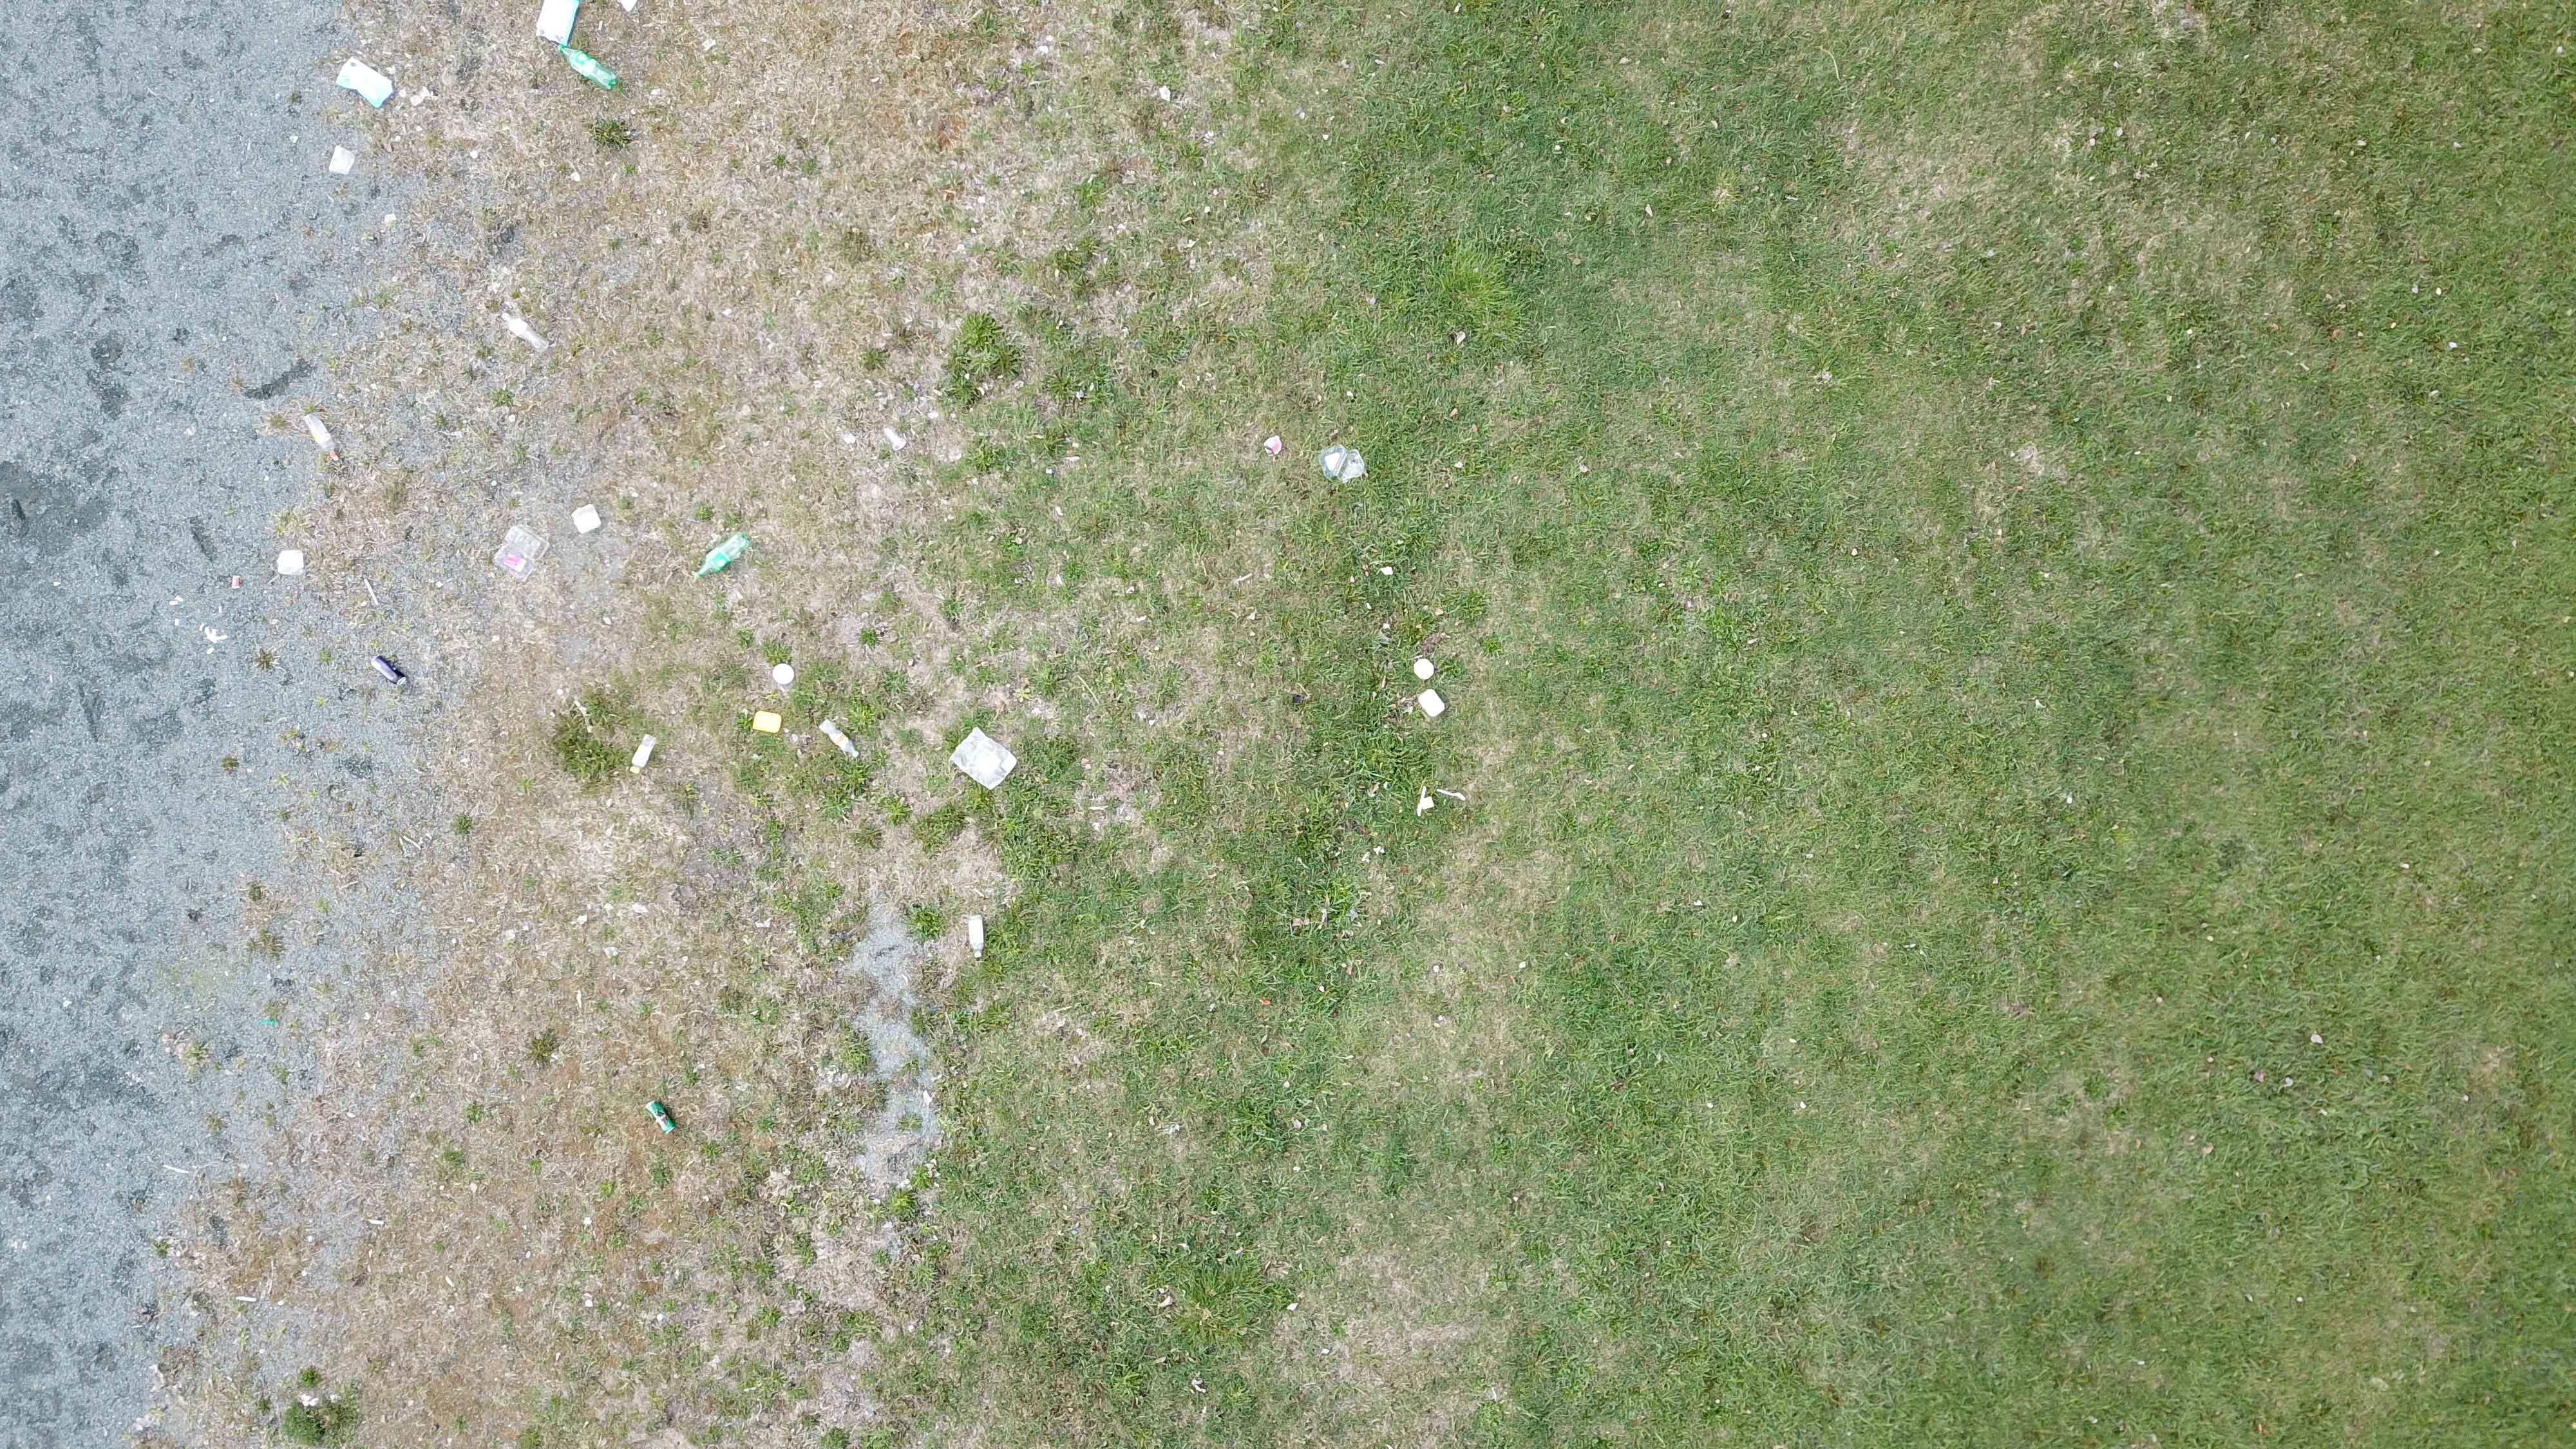Can: (370, 655, 409, 686), (644, 1099, 676, 1134)
Plastic: (950, 725, 1019, 791), (492, 524, 552, 584), (334, 55, 393, 111), (1318, 442, 1369, 485), (534, 2, 580, 48), (568, 504, 603, 534), (327, 145, 357, 175), (274, 550, 308, 577), (1415, 688, 1445, 717), (881, 423, 908, 453), (750, 709, 782, 734), (1261, 433, 1286, 458), (770, 663, 794, 685), (1433, 787, 1467, 801), (1414, 658, 1435, 679), (609, 0, 639, 12), (1417, 786, 1426, 817), (230, 573, 242, 593), (1421, 796, 1437, 810), (258, 1021, 278, 1026)
PlasticBottle: (556, 44, 619, 92), (694, 531, 748, 580), (501, 311, 550, 354), (303, 412, 341, 464), (817, 717, 860, 761), (630, 734, 658, 775), (966, 911, 985, 961)
